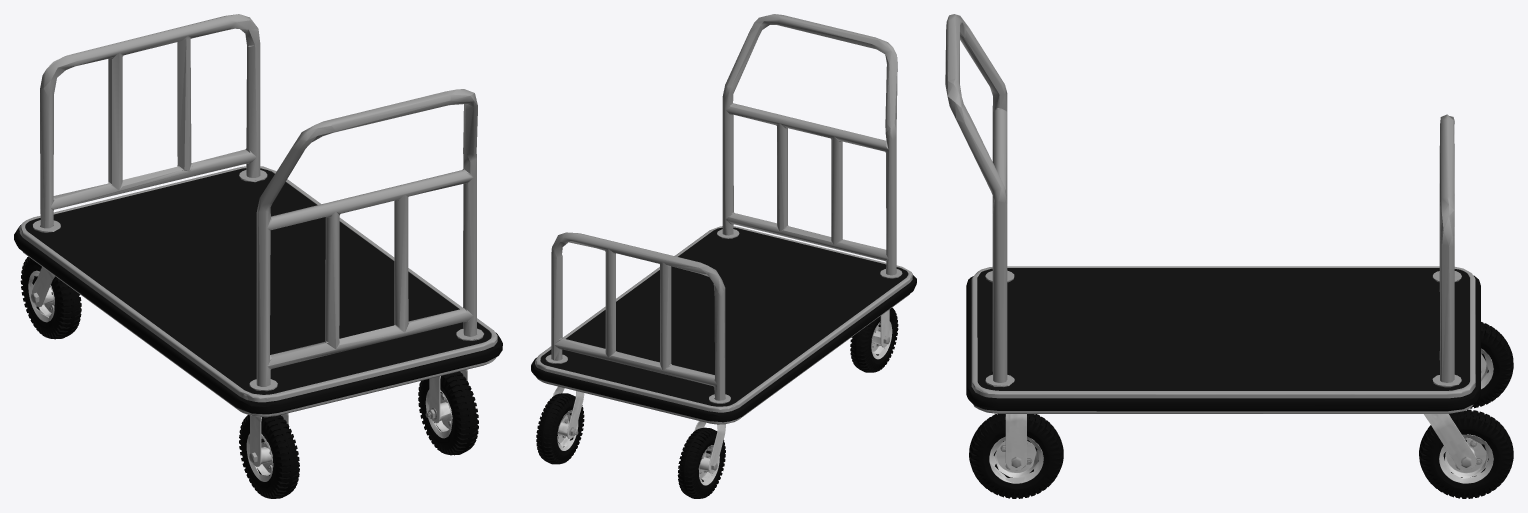
File: cart_platform.glb
3 renders of one model, left to right at view 1: azimuth 30°, elevation 25°; view 2: azimuth 150°, elevation 25°; view 3: azimuth 270°, elevation 25°, orthographic. The views are drawn at different scales.
Visible parts, largest first — view 1: cart_platform_mesh; view 2: cart_platform_mesh; view 3: cart_platform_mesh.
Boxes of the visible parts, x1,y1,x2,y2 form: cart_platform_mesh: (14,14,502,498); cart_platform_mesh: (531,14,916,498); cart_platform_mesh: (945,14,1513,498).
Size of the model in its own units: 0.6715 by 0.9517 by 1.22.
Materials: 6 (1 with a texture image).
